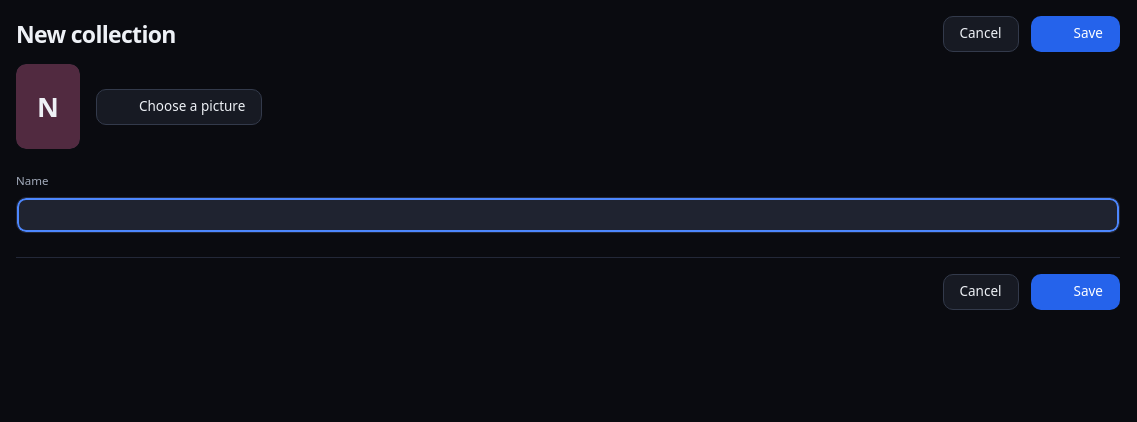
Test: says the name is taken when the create answers 409, and keeps the form
The width and height of the screenshot is (1137, 422).
In the field labelled "Name": (568, 215) [16, 197, 1120, 233], type "Best of"
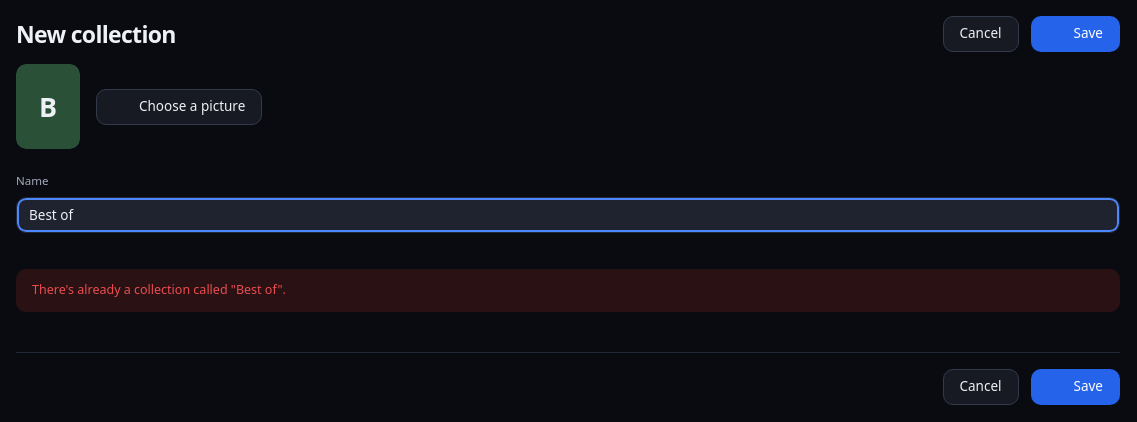
Expected: the form is shown, [16, 173, 1120, 405]
Expected: the text "There's already a collection called \"Best of\"." is shown, [16, 269, 1120, 312]
